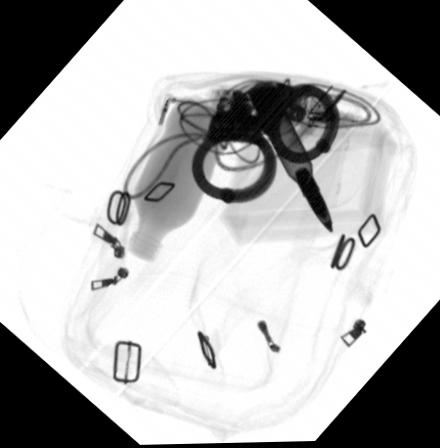Bullet: (248, 84, 332, 236)
HandCuffs: (189, 80, 340, 205)
